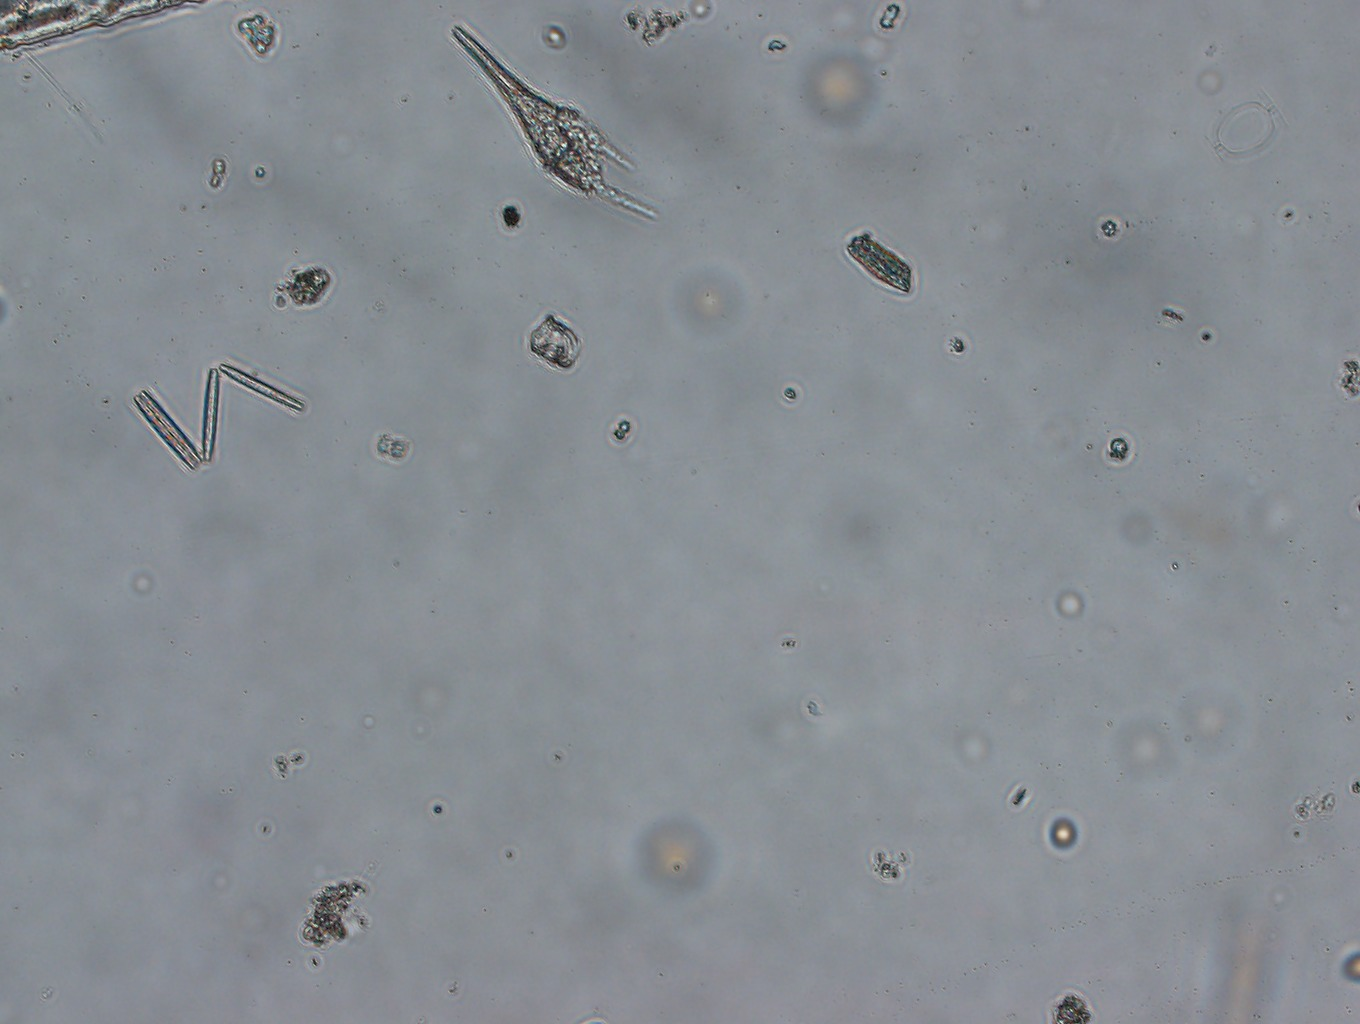ceratium furca: (442, 24, 660, 224)
thalassionema nitzschioides: (126, 359, 307, 472)
